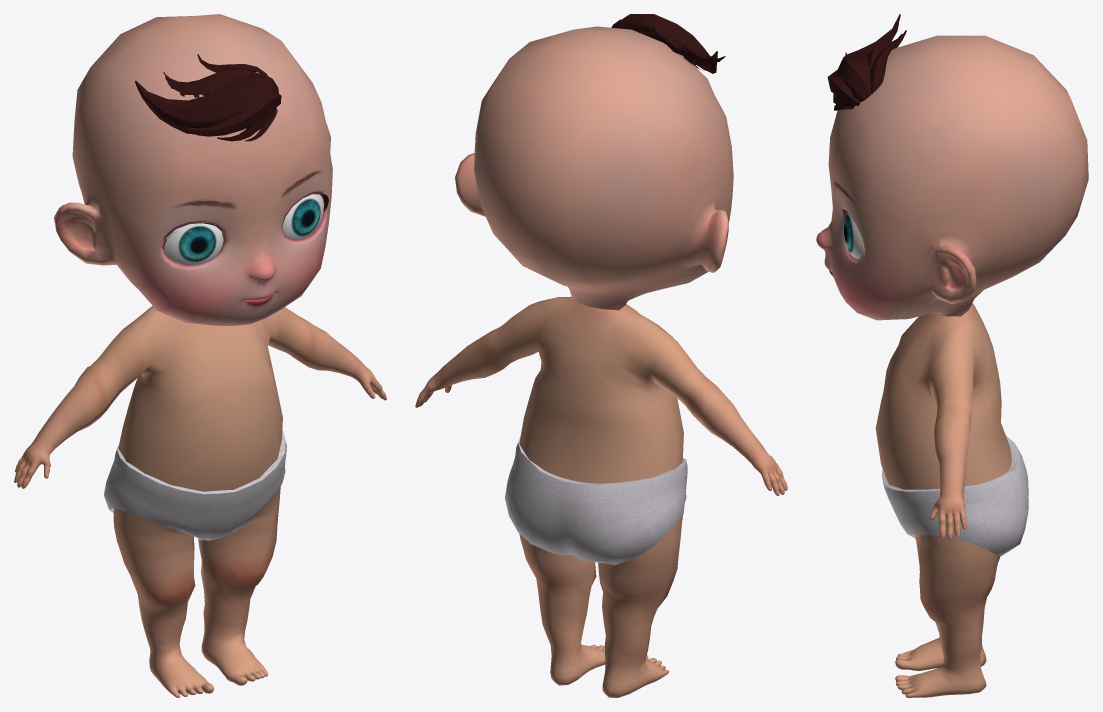
Rendered from baby3.fbx.
3 renders of one model, left to right at view 1: azimuth 30°, elevation 25°; view 2: azimuth 150°, elevation 25°; view 3: azimuth 270°, elevation 25°, orthographic.
Parts seen in each view (by area): view 1: prefix_Face, prefix_Baby_Body, prefix_Diaper, prefix_Baby_Hair; view 2: prefix_Face, prefix_Baby_Body, prefix_Diaper, prefix_Baby_Hair; view 3: prefix_Face, prefix_Baby_Body, prefix_Diaper, prefix_Baby_Hair.
Part boxes in pixels (bbox=[...]): prefix_Face: bbox=[54, 14, 332, 325]; prefix_Baby_Body: bbox=[14, 306, 386, 697]; prefix_Diaper: bbox=[104, 429, 286, 540]; prefix_Baby_Hair: bbox=[135, 54, 281, 141]; prefix_Face: bbox=[455, 26, 733, 310]; prefix_Baby_Body: bbox=[415, 296, 787, 697]; prefix_Diaper: bbox=[505, 436, 687, 565]; prefix_Baby_Hair: bbox=[611, 14, 725, 73]; prefix_Face: bbox=[816, 35, 1088, 320]; prefix_Baby_Body: bbox=[875, 303, 1011, 697]; prefix_Diaper: bbox=[881, 436, 1028, 555]; prefix_Baby_Hair: bbox=[827, 14, 906, 110].
Bounding box in the file's own units: 111 × 187 × 73.26.
